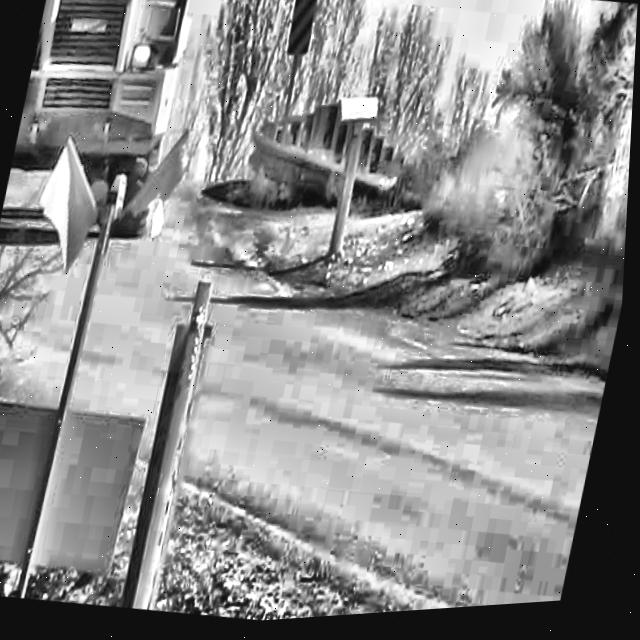dump_truck: (0, 0, 240, 273)
